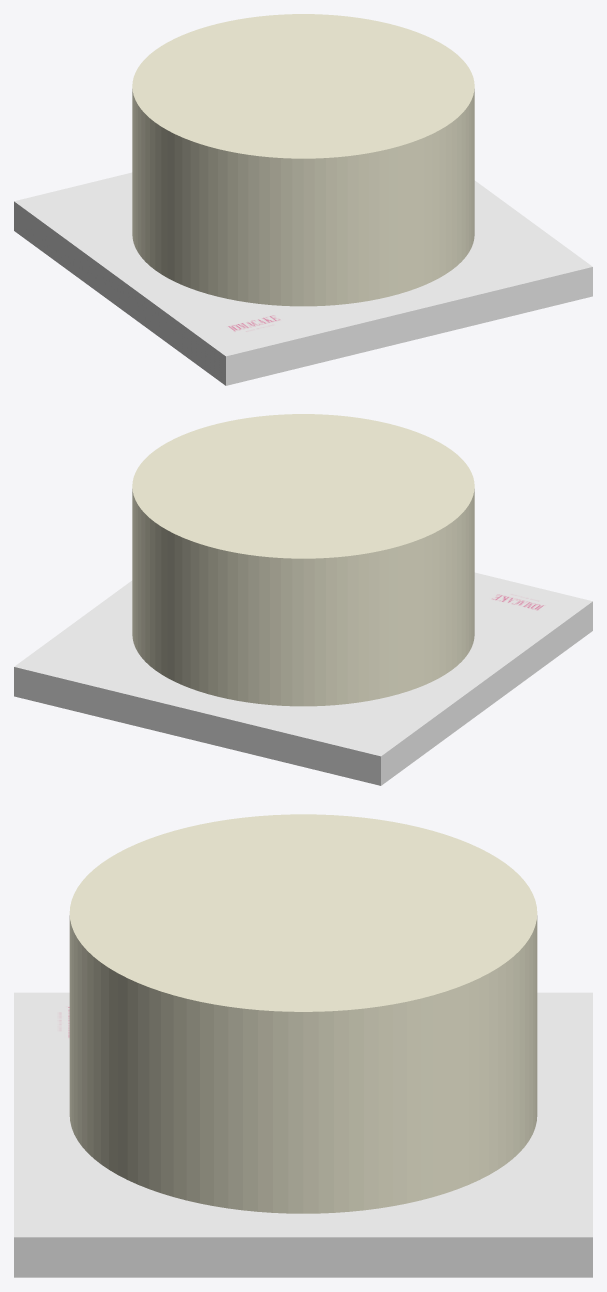
File: cake_8in_layers3_v33.glb
The picture shows the model from 3 angles, top to bottom: view 1: azimuth 30°, elevation 25°; view 2: azimuth 150°, elevation 25°; view 3: azimuth 270°, elevation 25°; orthographic projection. The views are drawn at different scales.
Parts seen in each view (by area): view 1: Cake, Board, Logo; view 2: Cake, Board, Logo; view 3: Cake, Board, Logo.
Part boxes in pixels (left/top/right/bottom): Cake: left=132, top=14, right=474, bottom=306; Board: left=14, top=172, right=592, bottom=385; Logo: left=218, top=311, right=293, bottom=338; Cake: left=132, top=414, right=474, bottom=706; Board: left=14, top=572, right=592, bottom=785; Logo: left=483, top=587, right=557, bottom=614; Cake: left=69, top=814, right=537, bottom=1213; Board: left=14, top=992, right=592, bottom=1277; Logo: left=48, top=1002, right=69, bottom=1041.
Bounding box in the file's own units: 0.26 × 0.12 × 0.26.
